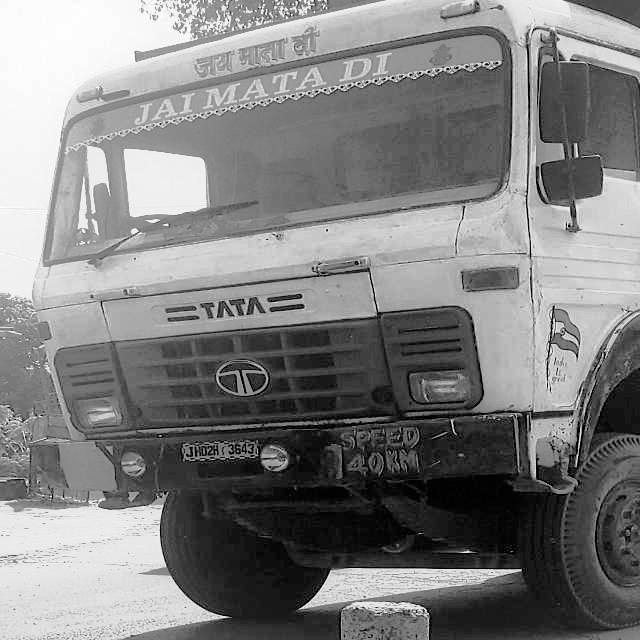HCV: (41, 20, 640, 639)
